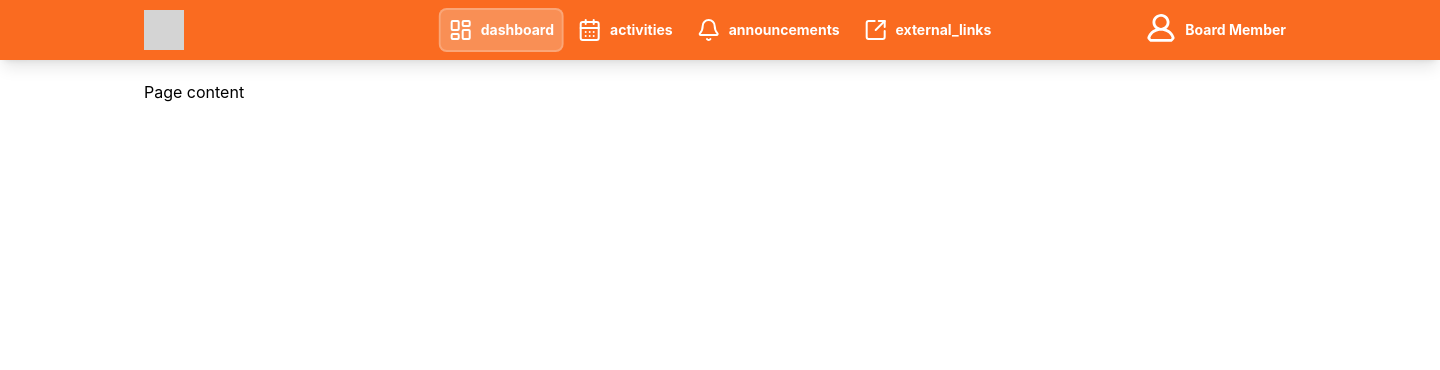
Test: NavBarLayout › shows admin links in the profile dropdown for a board member
Click the button with alt text "avatar" at (1216, 30), box [1135,8,1296,52]
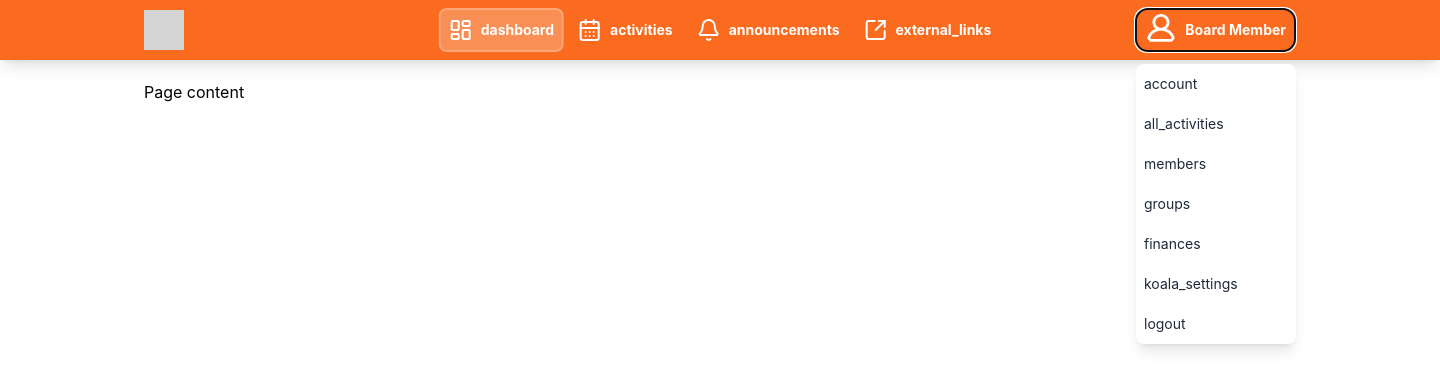
Now the link "finances" is shown, box [1144,235,1200,252]
Now the link "koala_settings" is shown, box [1144,275,1238,292]
